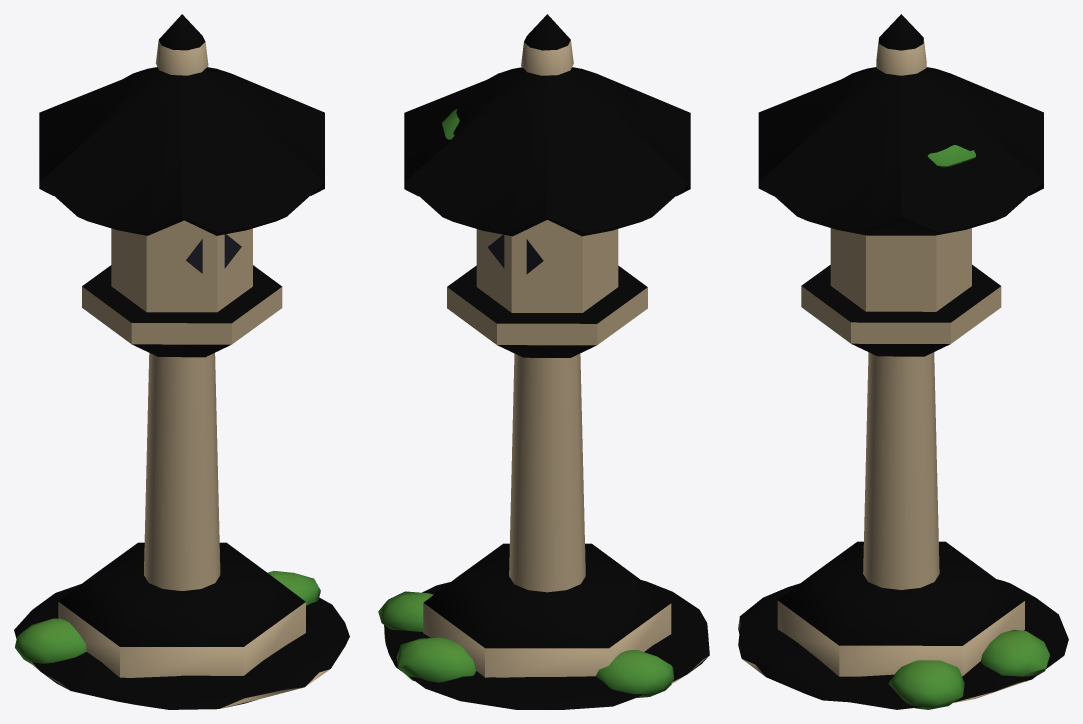
Rendered from KasugaLantern.fbx.
The picture shows the model from 3 angles, left to right: view 1: azimuth 30°, elevation 25°; view 2: azimuth 150°, elevation 25°; view 3: azimuth 270°, elevation 25°; orthographic projection.
Parts seen in each view (by area): view 1: KasugaLantern; view 2: KasugaLantern; view 3: KasugaLantern.
Part boxes in pixels (x1=…): KasugaLantern: x1=14, y1=14, x2=349, y2=709; KasugaLantern: x1=378, y1=14, x2=709, y2=709; KasugaLantern: x1=738, y1=14, x2=1068, y2=709.
Size of the model in its own units: 1.32 by 2.74 by 1.29.
1 material, 1 textured.
